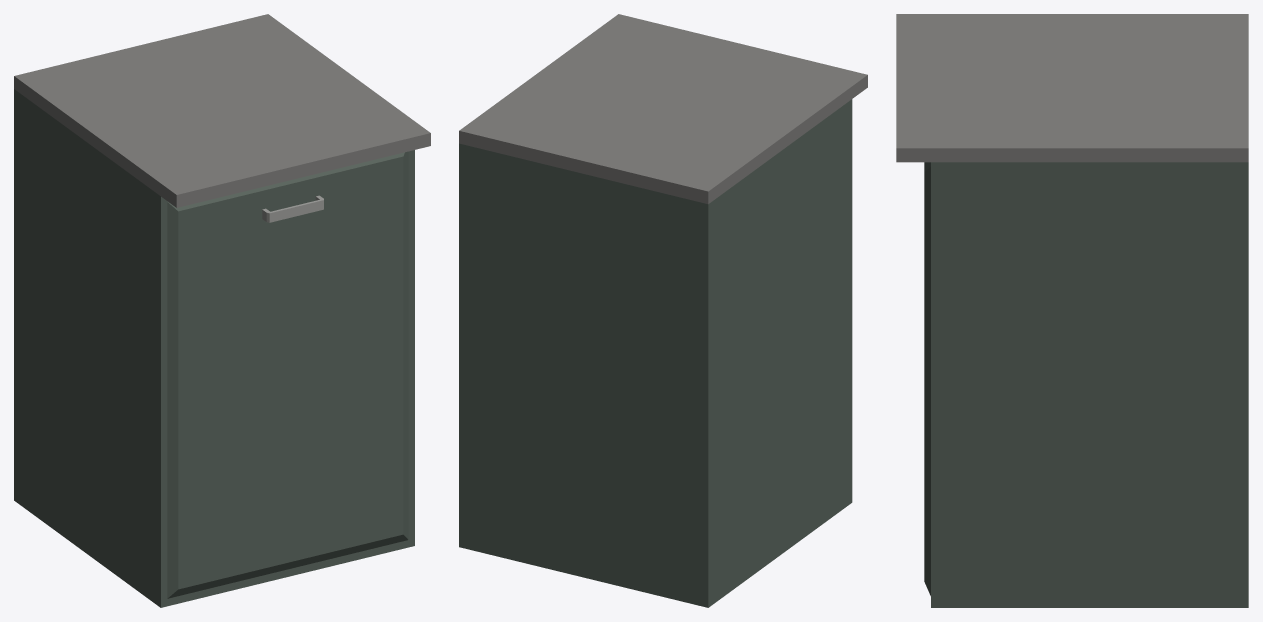
File: Kitchen_1Drawers.glb
3 renders of one model, left to right at view 1: azimuth 30°, elevation 25°; view 2: azimuth 150°, elevation 25°; view 3: azimuth 270°, elevation 25°, orthographic. The views are drawn at different scales.
Visible parts, largest first — view 1: Kitchen_1Drawers; view 2: Kitchen_1Drawers; view 3: Kitchen_1Drawers.
Boxes of the visible parts, x1,y1,x2,y2 form: Kitchen_1Drawers: (14,14,430,607); Kitchen_1Drawers: (459,14,867,607); Kitchen_1Drawers: (896,14,1248,607).
Size of the model in its own units: 0.4943 by 0.7891 by 0.5479.
Materials: 3 (3 with a texture image).
